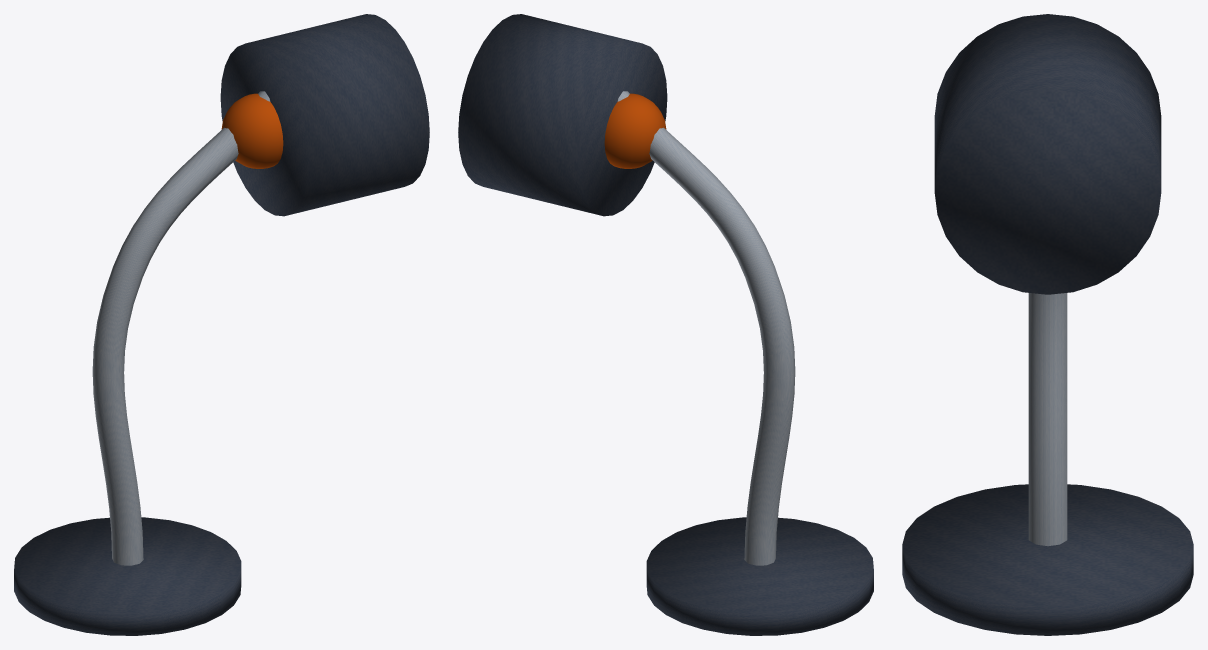
File: DeskLamp.obj
3 views of the same model, side by side, from view 1: azimuth 30°, elevation 25°; view 2: azimuth 150°, elevation 25°; view 3: azimuth 270°, elevation 25° (orthographic). The views are drawn at different scales.
Visible parts, largest first — view 1: Shade, Base, Arm, Bulb; view 2: Shade, Base, Arm, Bulb; view 3: Shade, Base, Arm.
Part boxes in pixels (x1=…): Shade: x1=220, y1=14, x2=429, y2=216; Base: x1=14, y1=517, x2=241, y2=635; Arm: x1=92, y1=91, x2=270, y2=565; Bulb: x1=221, y1=93, x2=283, y2=168; Shade: x1=458, y1=14, x2=667, y2=216; Base: x1=646, y1=517, x2=873, y2=635; Arm: x1=617, y1=91, x2=795, y2=565; Bulb: x1=604, y1=93, x2=666, y2=168; Shade: x1=934, y1=14, x2=1161, y2=294; Base: x1=902, y1=484, x2=1193, y2=635; Arm: x1=1028, y1=293, x2=1067, y2=546.
Size of the model in its own units: 0.65 by 0.88 by 0.36.
